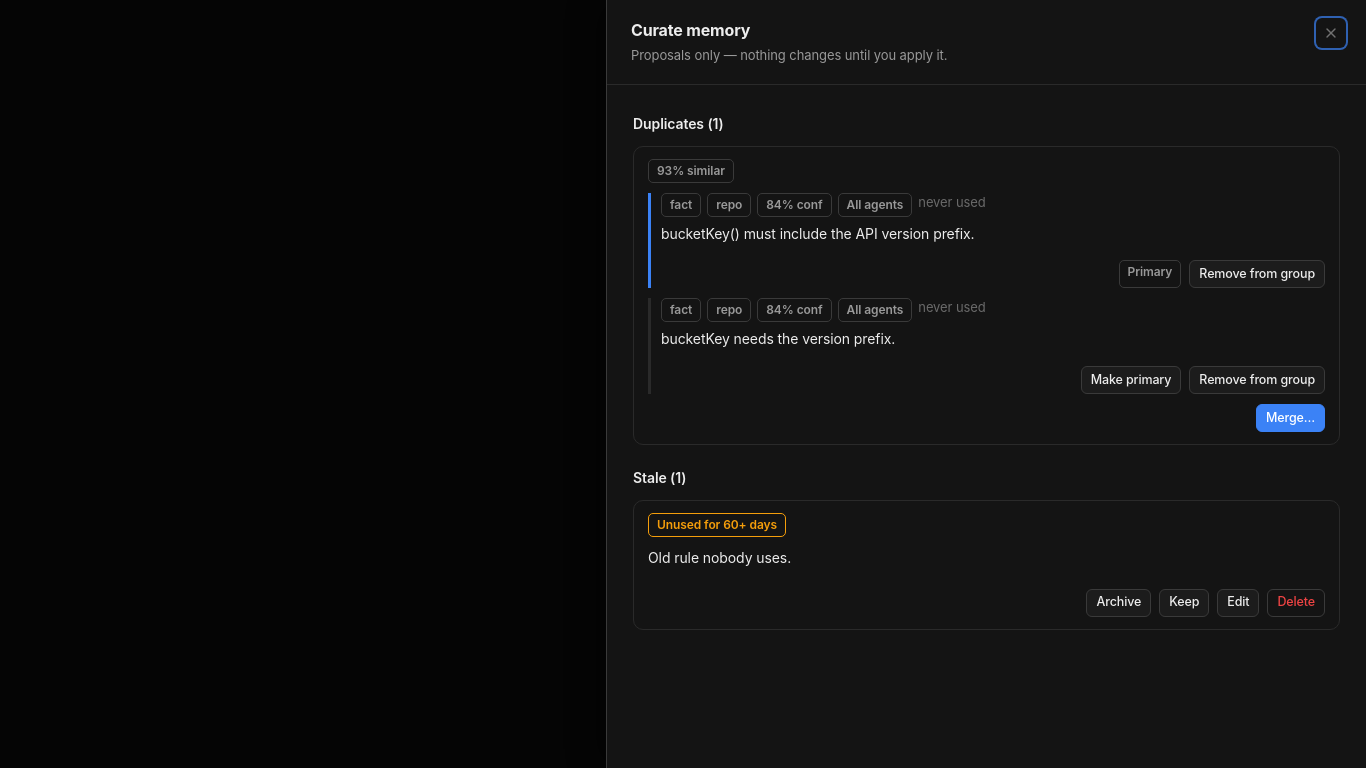
Test: CurateDrawer › removes a stale proposal after Keep without re-scanning
Click the button "Keep".
click(1184, 603)  # box [1159,589,1209,617]
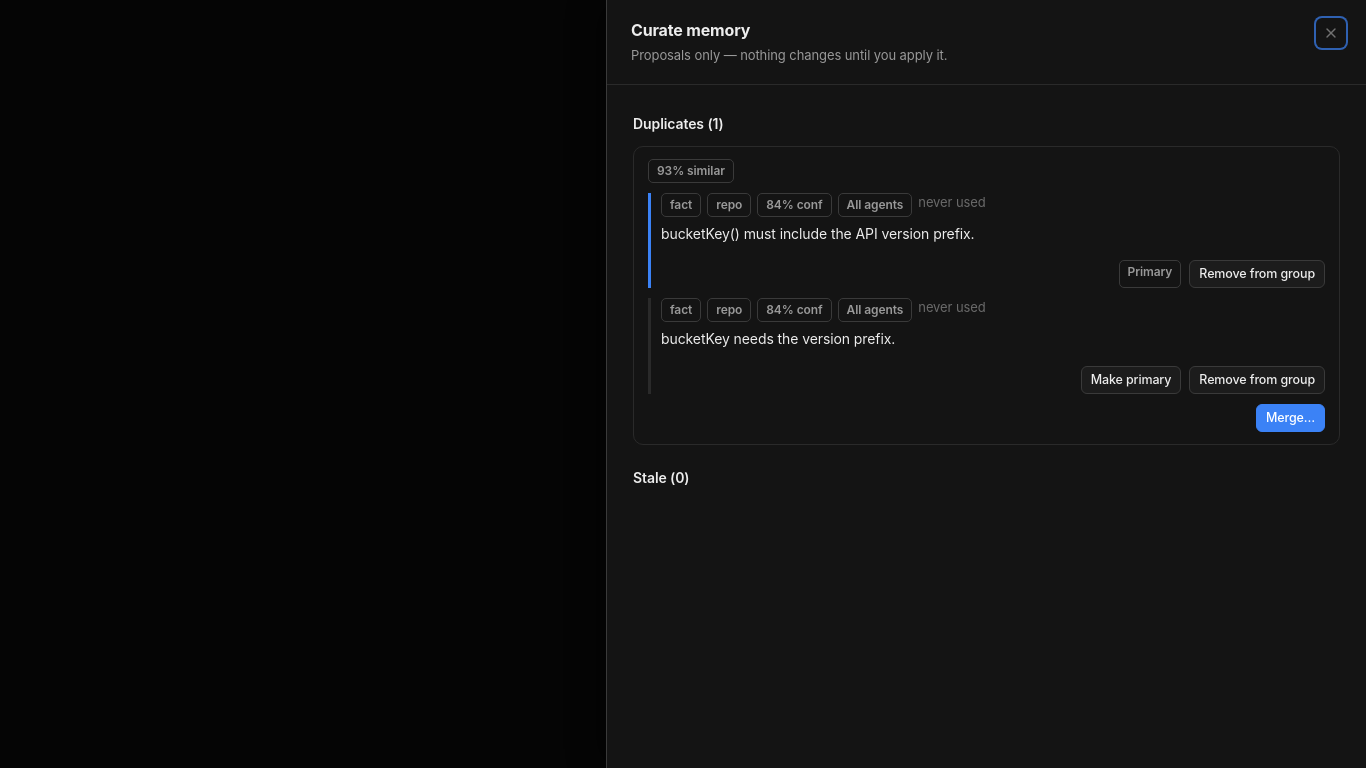
expect the heading "Stale (0)" is shown: met, box [633,467,690,488]
expect the text "Old rule nobody uses." is gone: met
